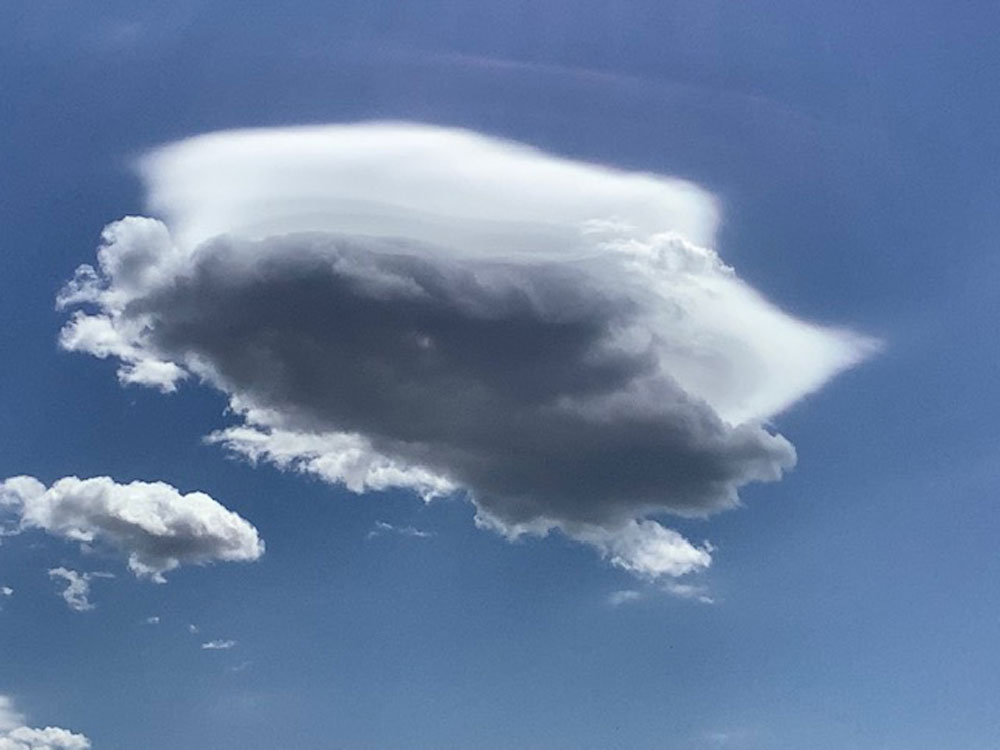Cumulus: (73, 113, 869, 581), (5, 460, 274, 596)
